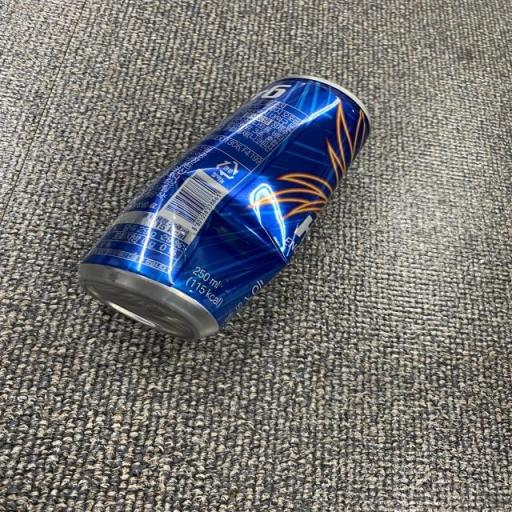metal: (74, 28, 433, 420)
